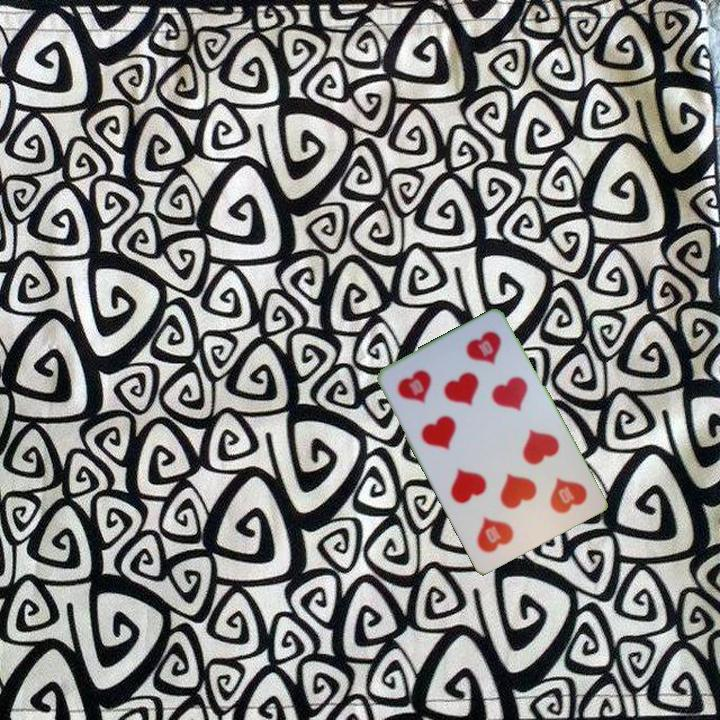h_10.png: (511, 453, 595, 534), (385, 347, 470, 427)
